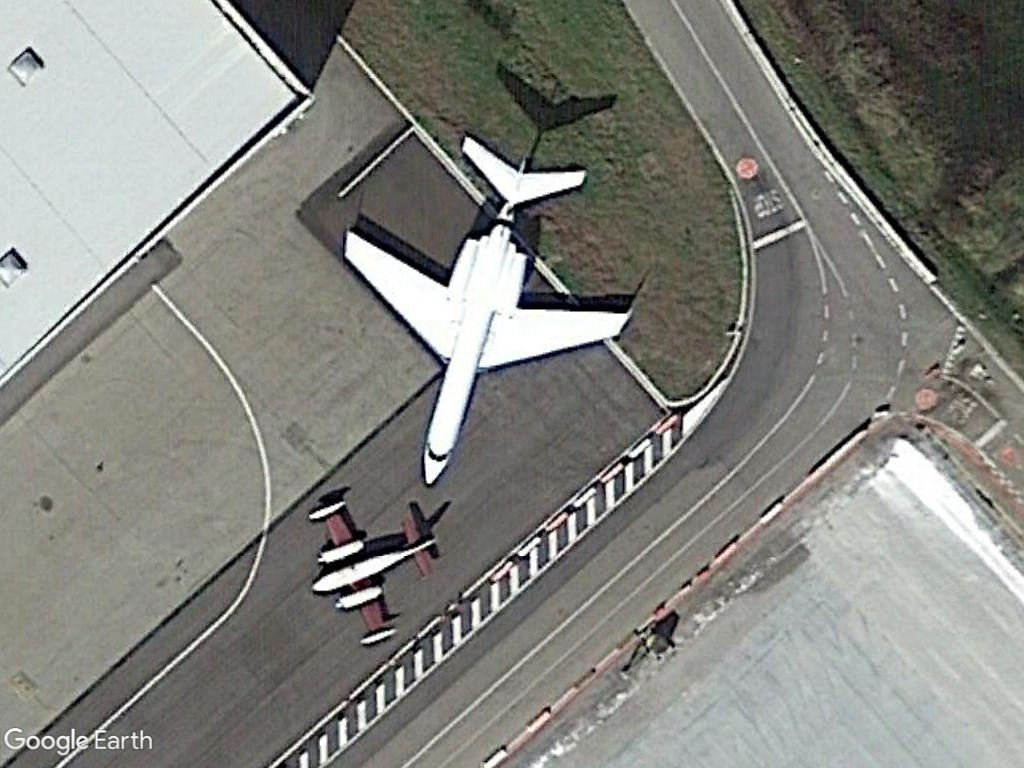chartered: (333, 122, 636, 492)
trainer: (297, 499, 444, 649)
